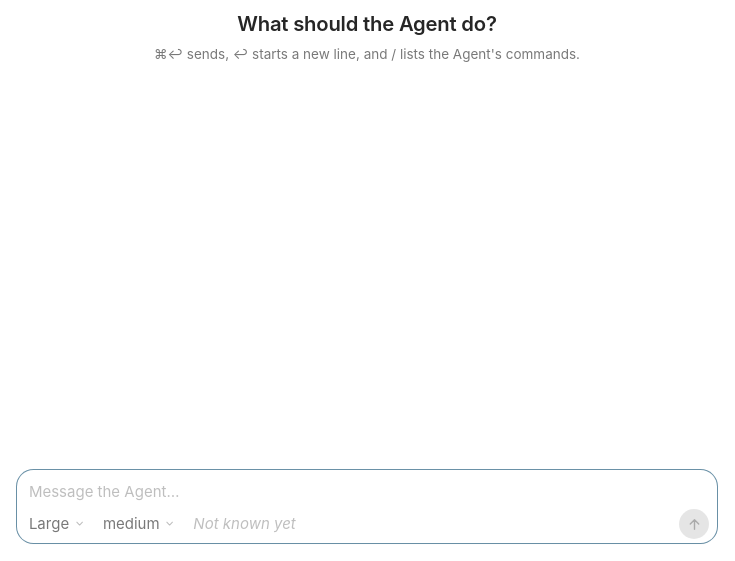
an open picker › marks the current value with a check drawn in the row's glyph column, and the pointer's row as the highlighted one
Step 1. Click the dropdown named "Effort" → (139, 524), box [95,510,183,538]
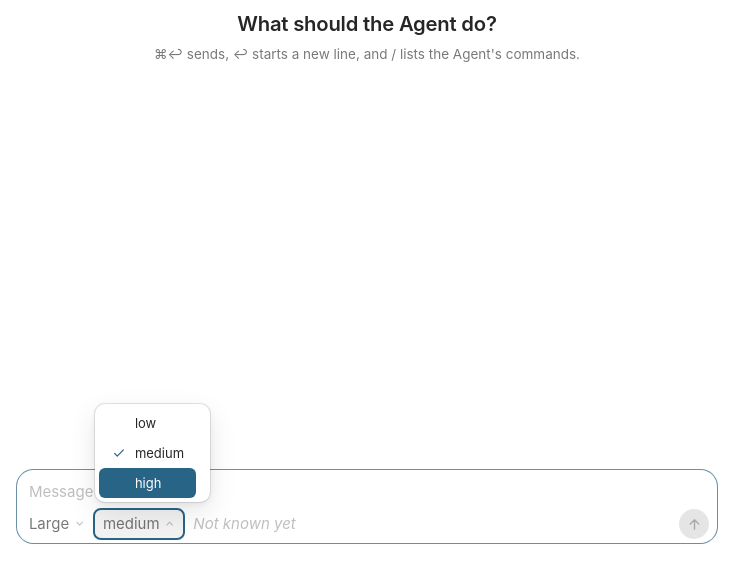
Check: the icon below "low" is shown, box [112,446,126,460]
